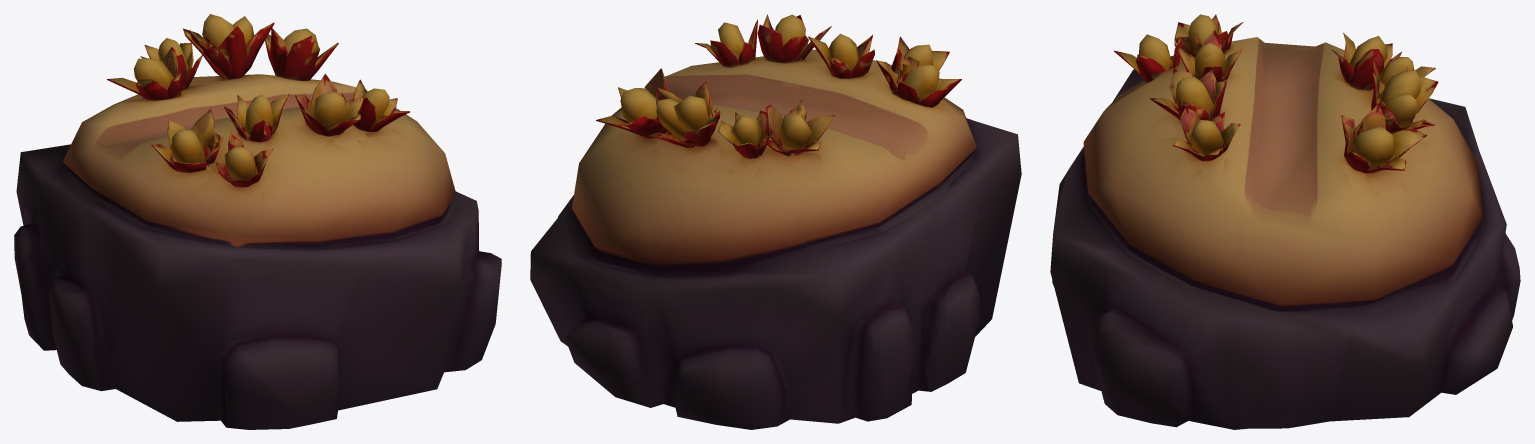
File: earth_nourish_t1.glb
3 renders of one model, left to right at view 1: azimuth 30°, elevation 25°; view 2: azimuth 150°, elevation 25°; view 3: azimuth 270°, elevation 25°, orthographic. The views are drawn at different scales.
Visible parts, largest first — view 1: tripo_node_4bb959fa-a3c3-46ca-b421-4ba14b736593; view 2: tripo_node_4bb959fa-a3c3-46ca-b421-4ba14b736593; view 3: tripo_node_4bb959fa-a3c3-46ca-b421-4ba14b736593.
Boxes of the visible parts, x1,y1,x2,y2 form: tripo_node_4bb959fa-a3c3-46ca-b421-4ba14b736593: (14,14,501,429); tripo_node_4bb959fa-a3c3-46ca-b421-4ba14b736593: (530,14,1021,429); tripo_node_4bb959fa-a3c3-46ca-b421-4ba14b736593: (1050,14,1520,429).
Bounding box in the file's own units: 0.9805 × 0.666 × 0.998.
1 material, 1 textured.
